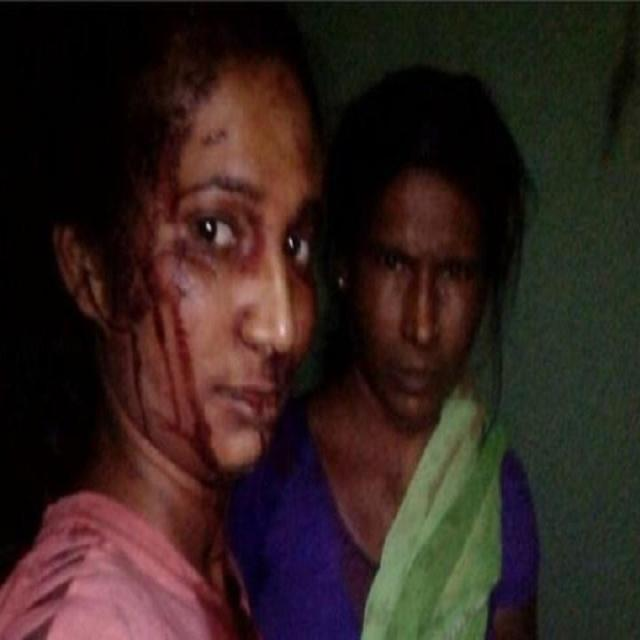flood: (119, 212, 188, 448)
